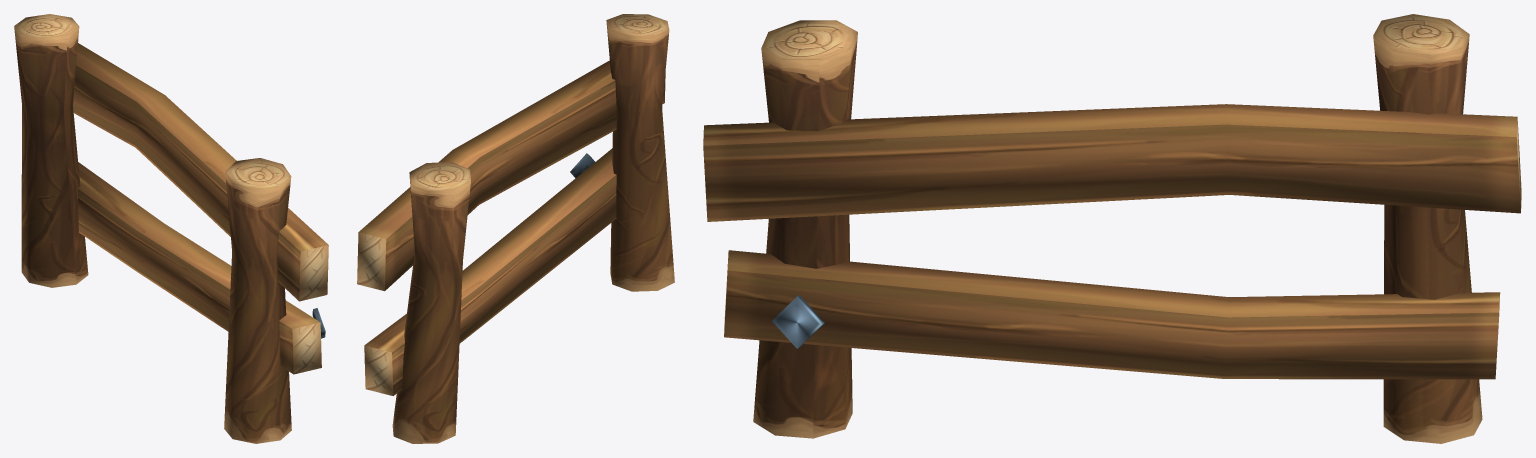
The model's file is fence_02.fbx.
3 views of the same model, side by side, from view 1: azimuth 30°, elevation 25°; view 2: azimuth 150°, elevation 25°; view 3: azimuth 270°, elevation 25° (orthographic). The views are drawn at different scales.
Parts seen in each view (by area): view 1: fence_02; view 2: fence_02; view 3: fence_02.
Part boxes in pixels (box(x1,y1,x2,y2)): fence_02: box(14, 14, 328, 443); fence_02: box(357, 14, 674, 443); fence_02: box(703, 14, 1521, 443).
Size of the model in its own units: 1 by 2.49 by 4.82.
